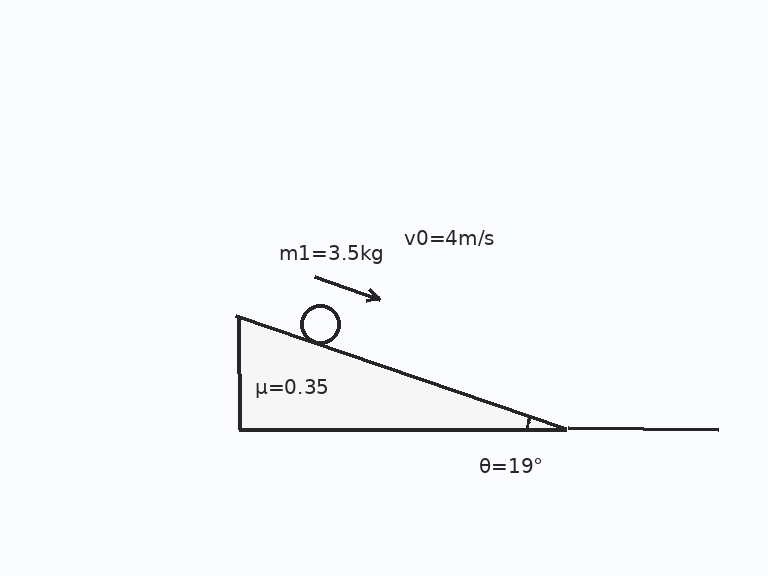ball: (298, 302, 342, 346)
ramp: (236, 315, 569, 432)
